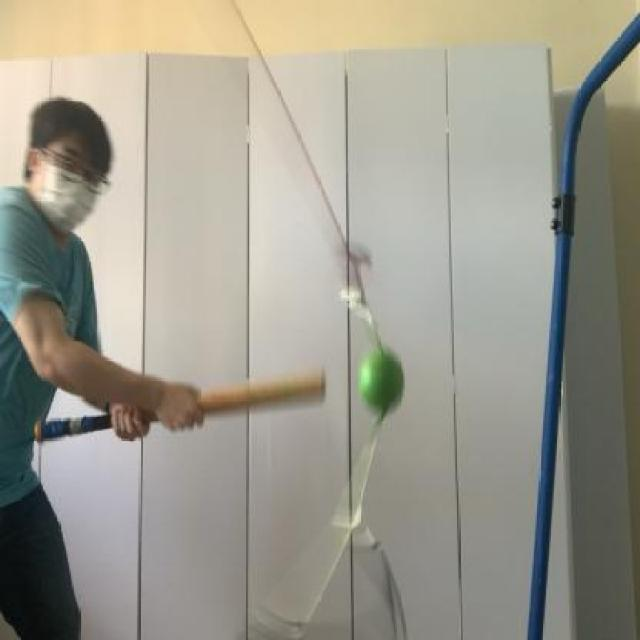baseball: (355, 337, 408, 418)
